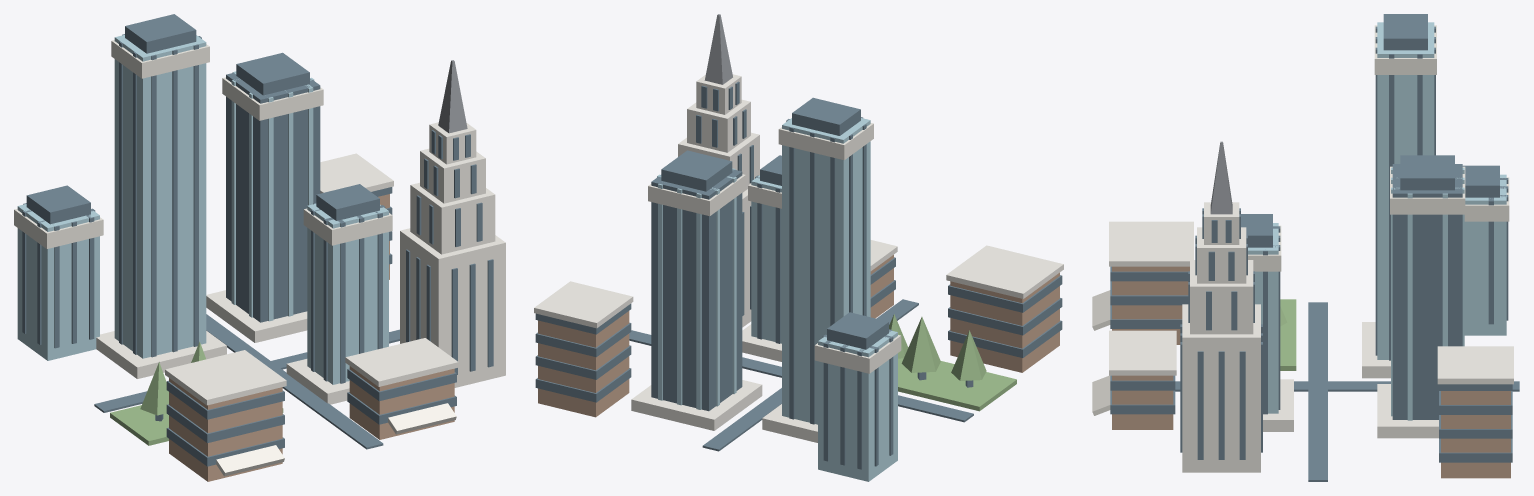
File: city.glb
3 views of the same model, side by side, from view 1: azimuth 30°, elevation 25°; view 2: azimuth 150°, elevation 25°; view 3: azimuth 270°, elevation 25° (orthographic). The views are drawn at different scales.
Parts seen in each view (by area): view 1: western_modern_city; view 2: western_modern_city; view 3: western_modern_city.
Boxes of the visible parts, left/top/right/bottom form: western_modern_city: left=14, top=14, right=505, bottom=481; western_modern_city: left=534, top=14, right=1063, bottom=481; western_modern_city: left=1092, top=14, right=1519, bottom=481.
Size of the model in its own units: 0.96 by 0.83 by 0.9754.
